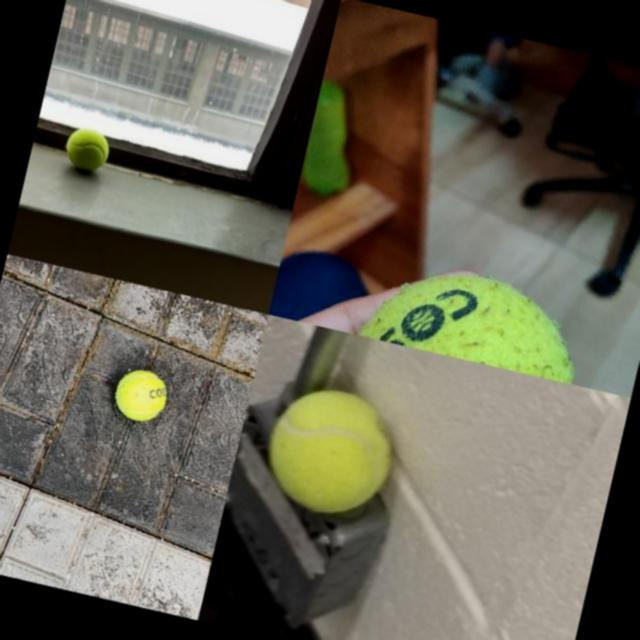tennis-ball: (351, 248, 599, 386), (255, 376, 404, 528), (110, 364, 172, 426), (61, 124, 113, 176)
